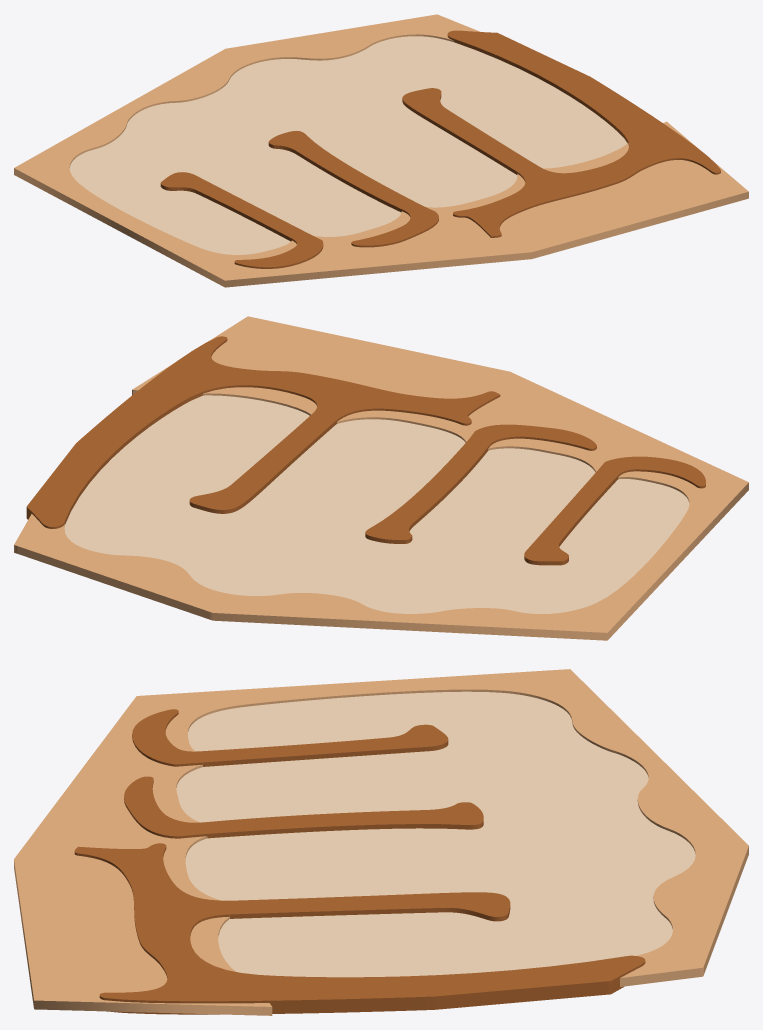
File: emoji_u1f44a_1f3fb.glb
The picture shows the model from 3 angles, top to bottom: view 1: azimuth 30°, elevation 25°; view 2: azimuth 150°, elevation 25°; view 3: azimuth 270°, elevation 25°; orthographic projection. The views are drawn at different scales.
Visible parts, largest first — view 1: emoji_u1f44a_1f3fb; view 2: emoji_u1f44a_1f3fb; view 3: emoji_u1f44a_1f3fb.
Part boxes in pixels (x1,y1,x2,y2): emoji_u1f44a_1f3fb: (14,14,748,287); emoji_u1f44a_1f3fb: (14,316,748,640); emoji_u1f44a_1f3fb: (14,669,748,1015).
Size of the model in its own units: 0.0325 by 0.0006 by 0.0299.
